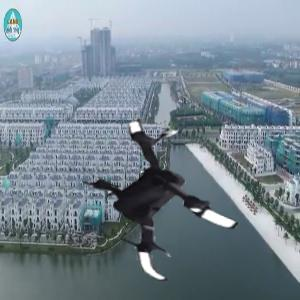drone: (64, 103, 247, 286)
